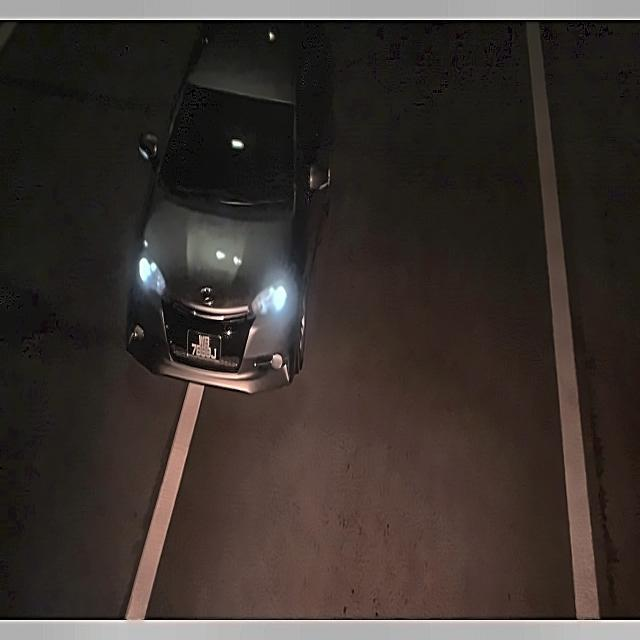car: (182, 327, 226, 372)
